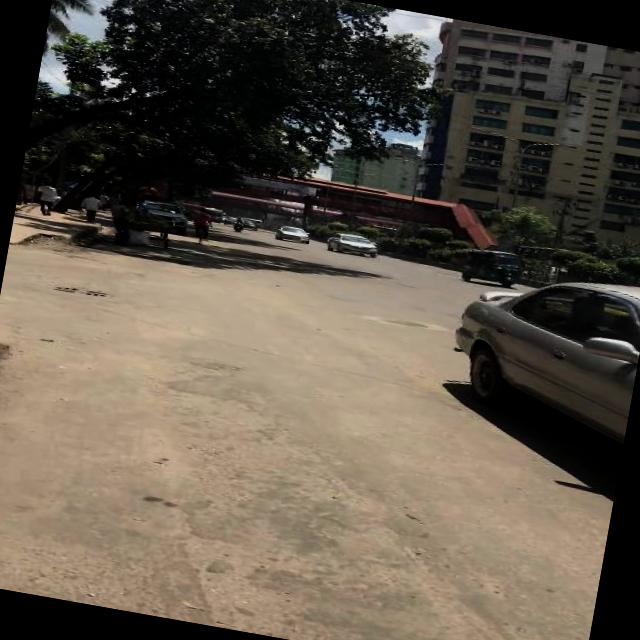car: (441, 253, 640, 441), (326, 230, 382, 260), (276, 223, 312, 246)
motorcycle: (461, 243, 528, 290), (233, 214, 246, 231)
